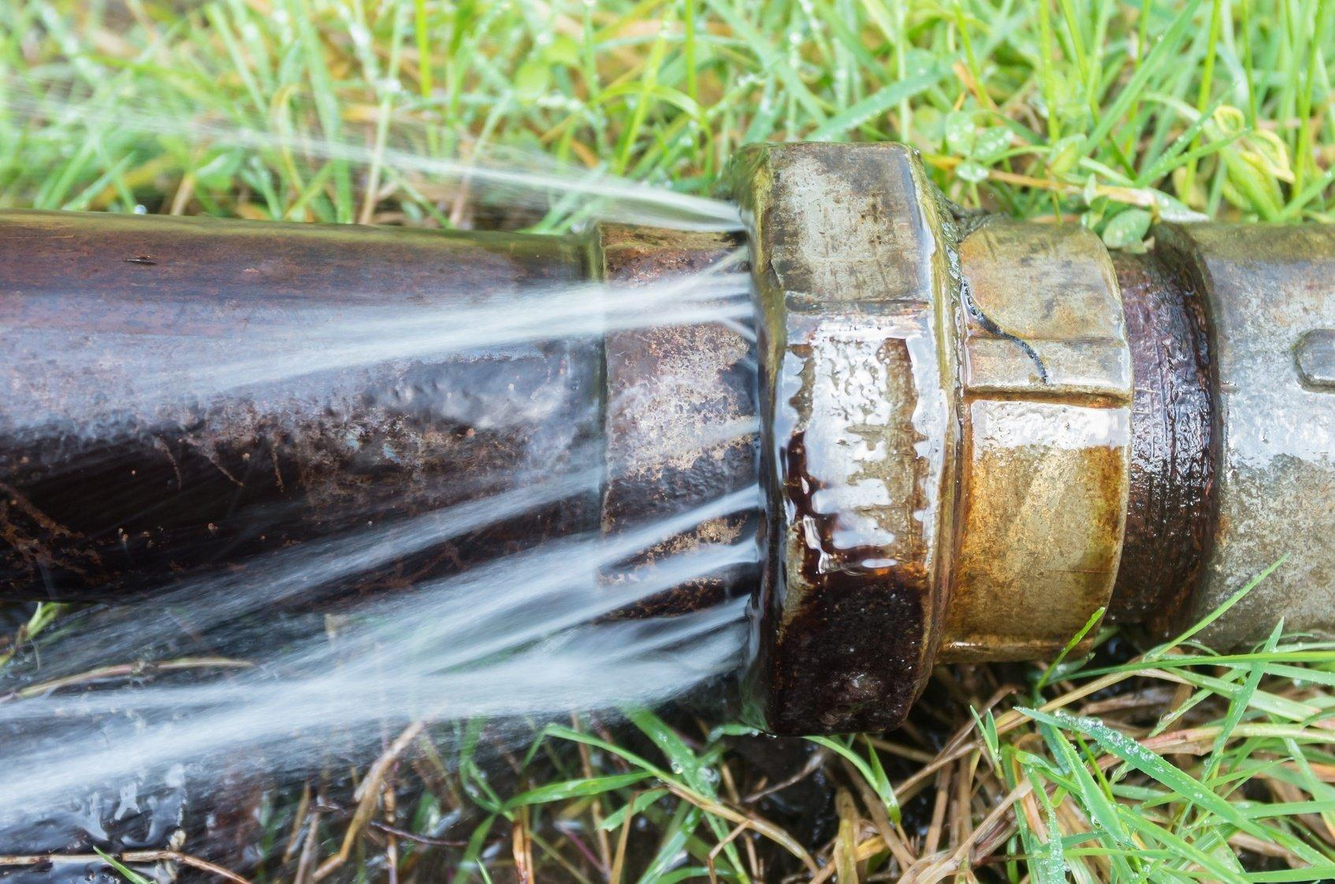pipe burst: (0, 109, 813, 860)
